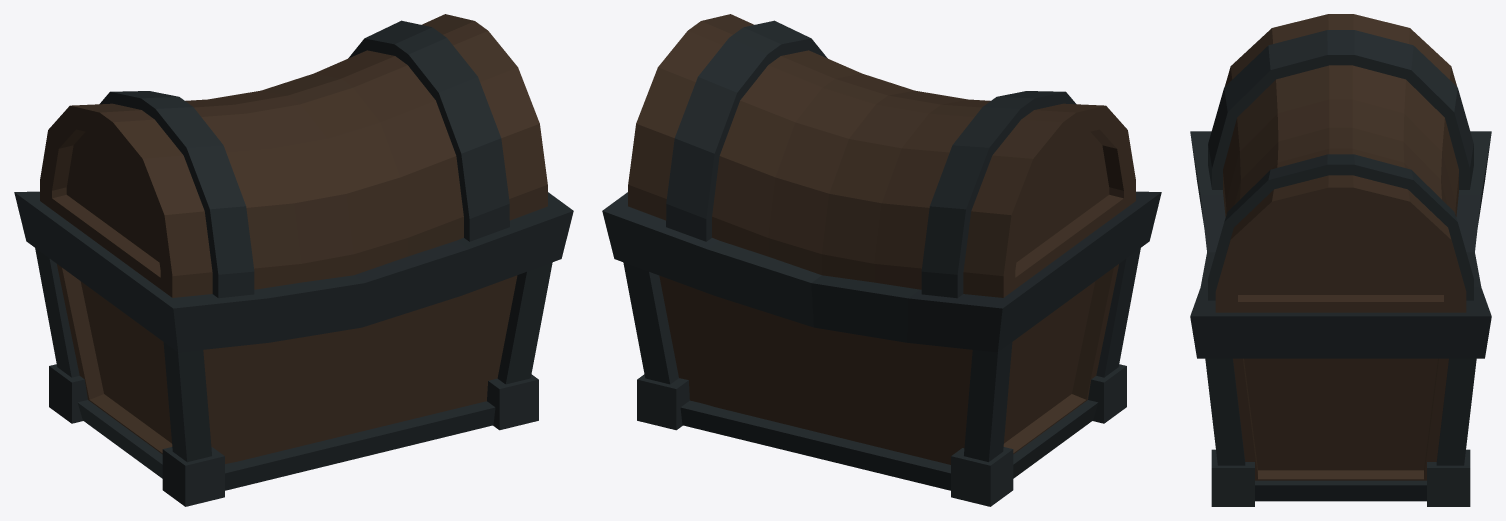
Rendered from Truhe.fbx.
The picture shows the model from 3 angles, left to right: view 1: azimuth 30°, elevation 25°; view 2: azimuth 150°, elevation 25°; view 3: azimuth 270°, elevation 25°; orthographic projection. The views are drawn at different scales.
Parts seen in each view (by area): view 1: Cube.012; view 2: Cube.012; view 3: Cube.012.
Boxes of the visible parts, bbox=[...] form: Cube.012: bbox=[14, 14, 573, 506]; Cube.012: bbox=[602, 14, 1161, 506]; Cube.012: bbox=[1190, 14, 1491, 506].
Size of the model in its own units: 133 by 111 by 91.44.
